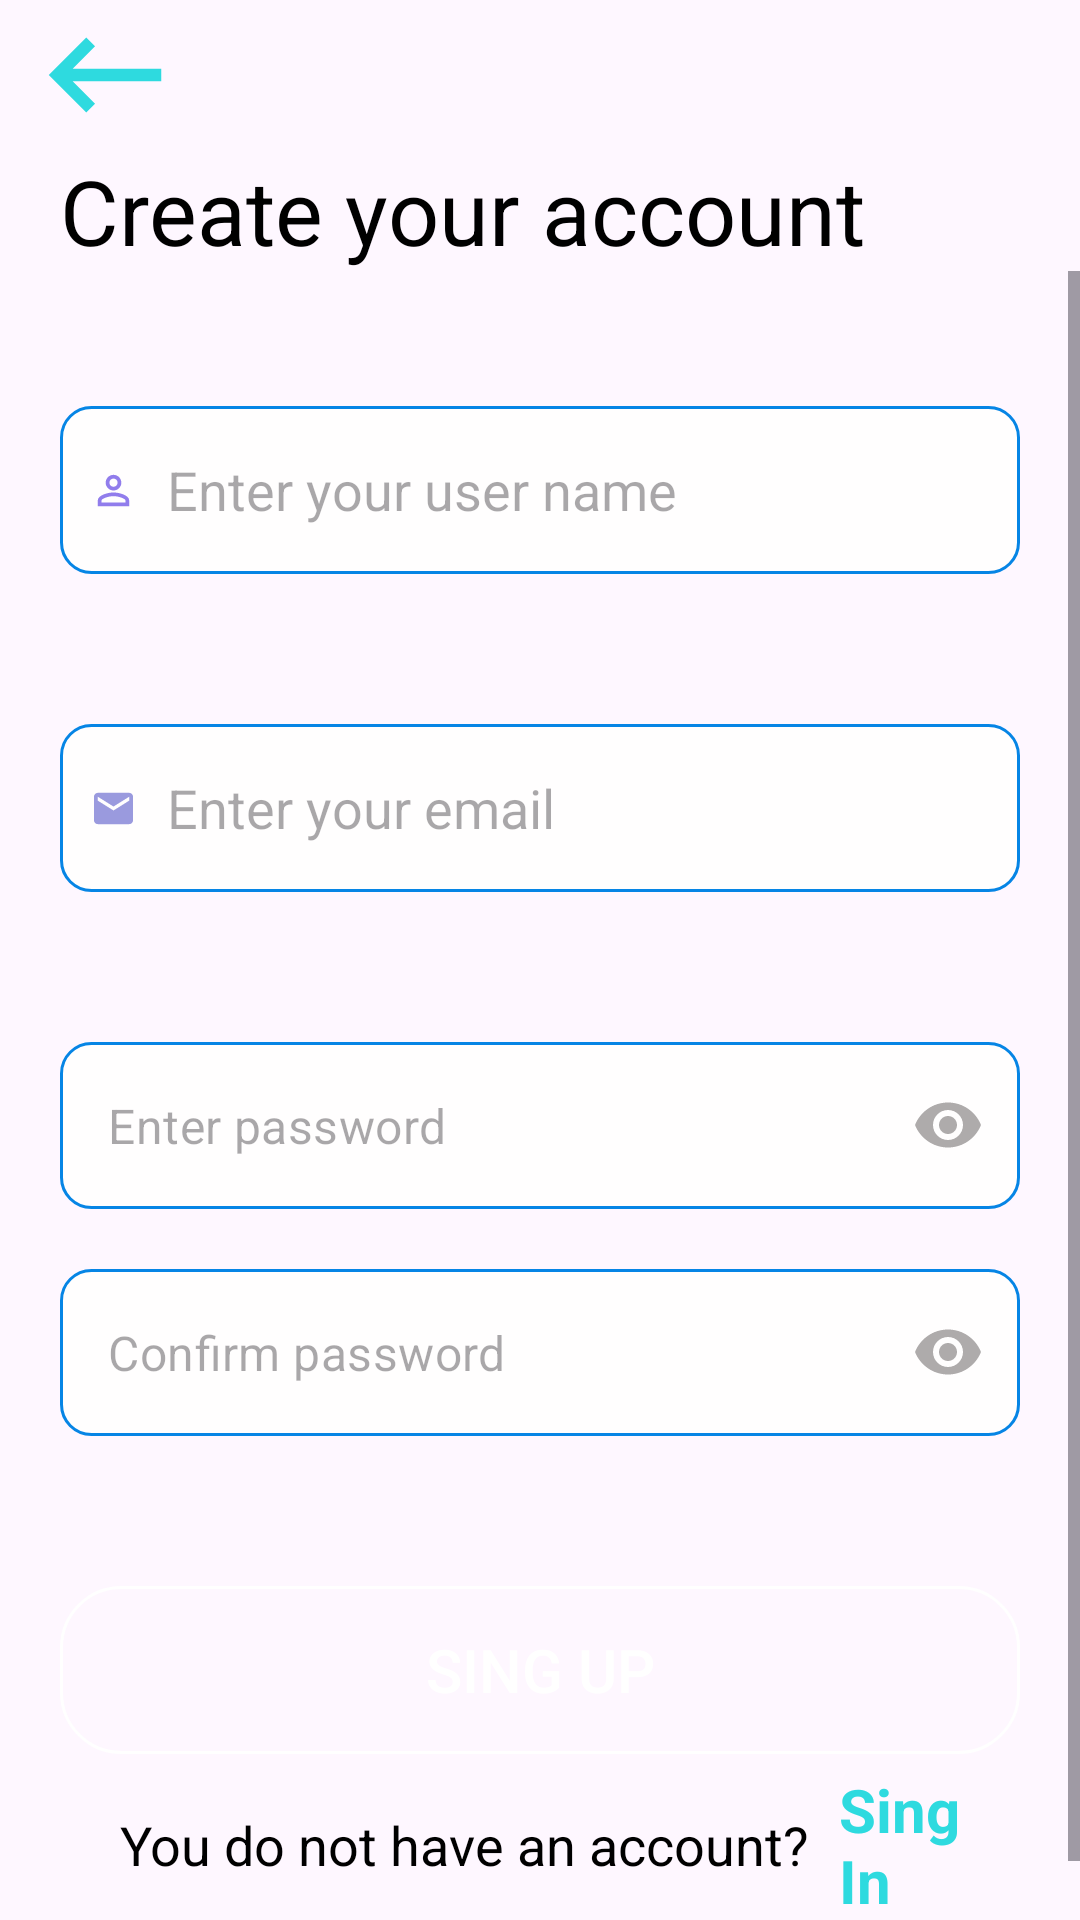

Icon bounding boxes for this 1080×1920 phone screenshot, format bbox=[x1, y1, x2, y2]:
rentrer: bbox=[49, 37, 162, 113]
